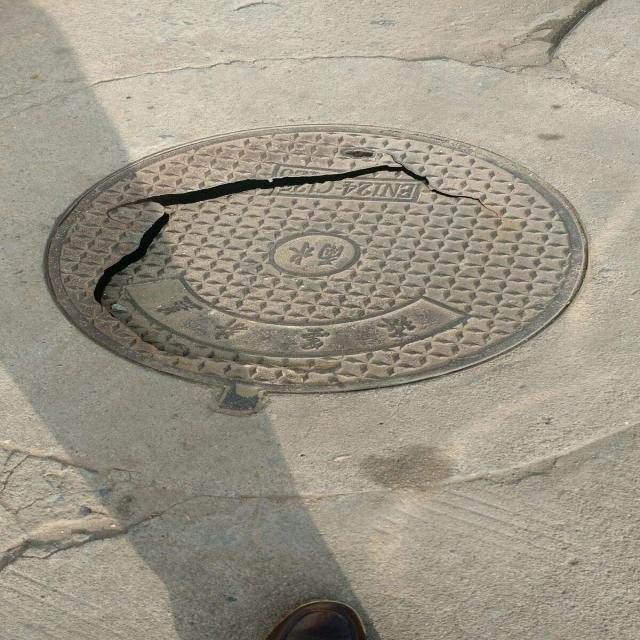Faulty: (42, 123, 591, 418)
